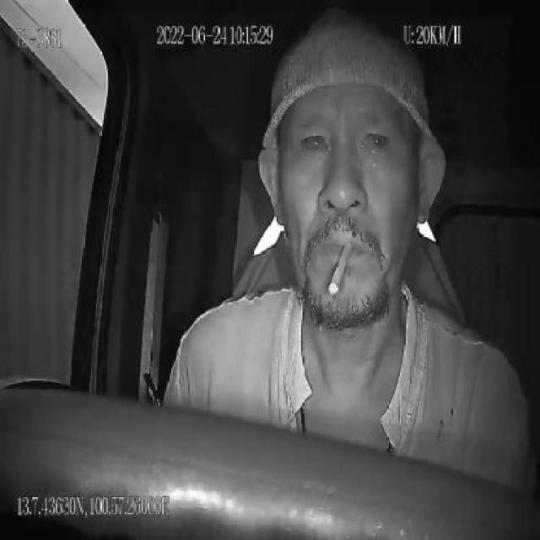smoking: (327, 240, 351, 298)
